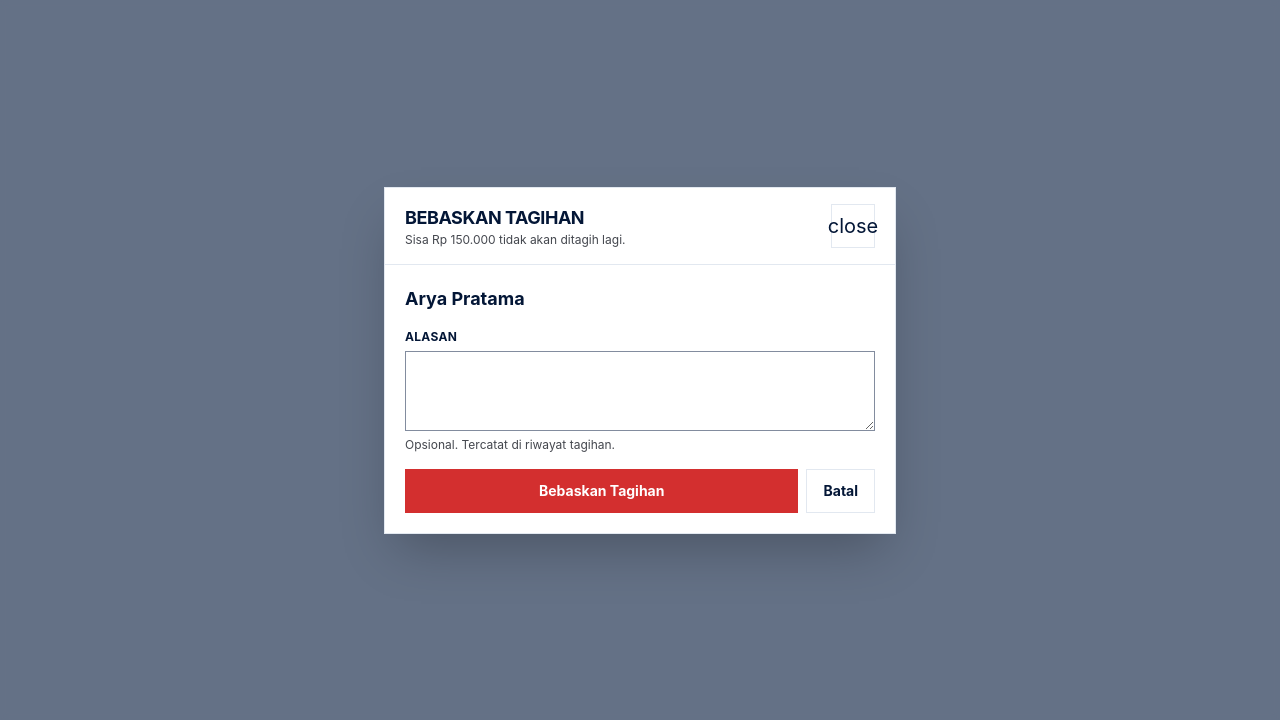
Test: SppWaiveModal › menampilkan error server di dalam modal
Click the button "Bebaskan Tagihan": (602, 490) [405, 468, 798, 512]
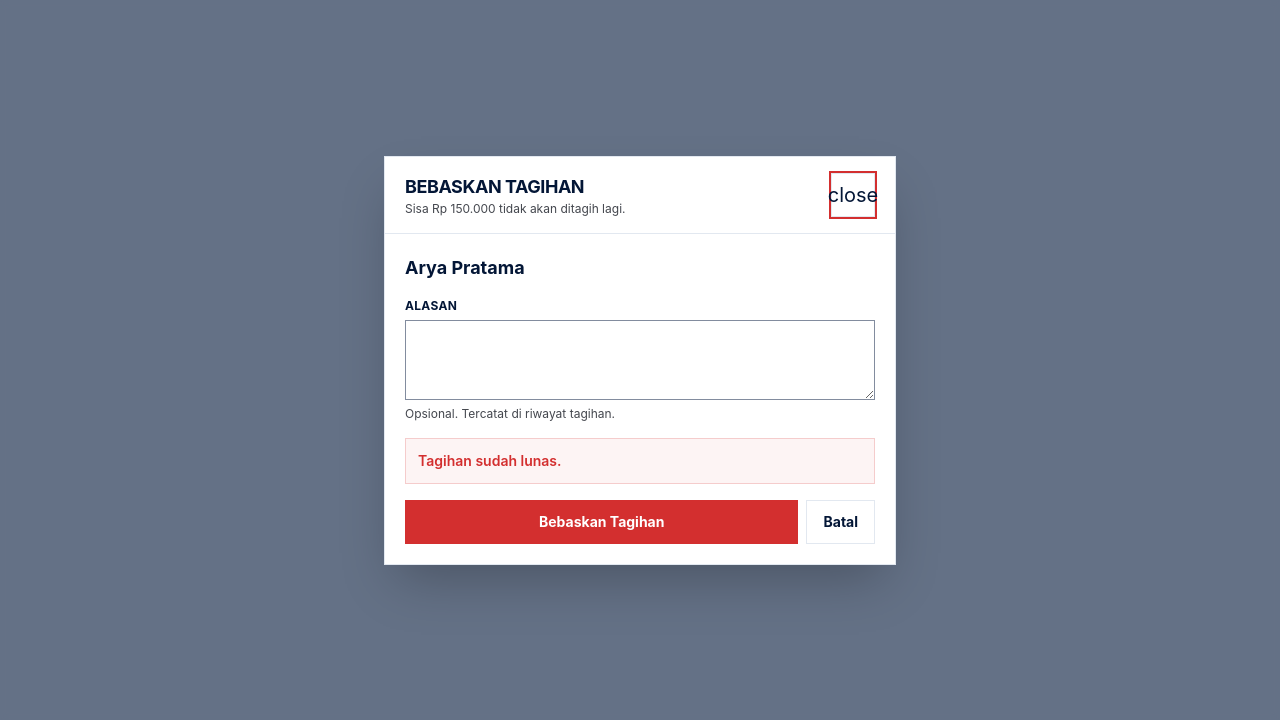
Expected: the text "Tagihan sudah lunas." is shown, [405, 438, 875, 484]
